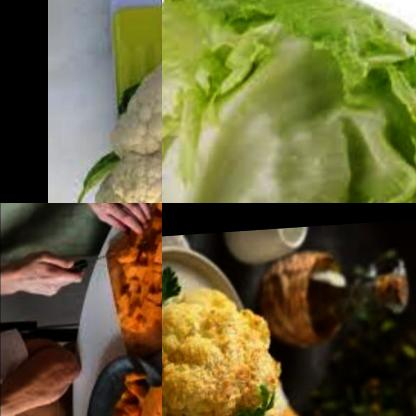cayliflower: (162, 269, 299, 416), (72, 44, 162, 203)
pumpkin: (111, 203, 162, 342), (92, 365, 150, 416)
salad: (162, 0, 416, 203)
